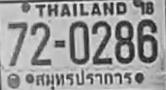0: (68, 20, 88, 64)
2: (92, 20, 112, 64), (30, 21, 50, 65)
6: (137, 18, 157, 62)
7: (7, 21, 27, 66)
8: (114, 19, 134, 63)
SPK: (35, 70, 135, 90)
